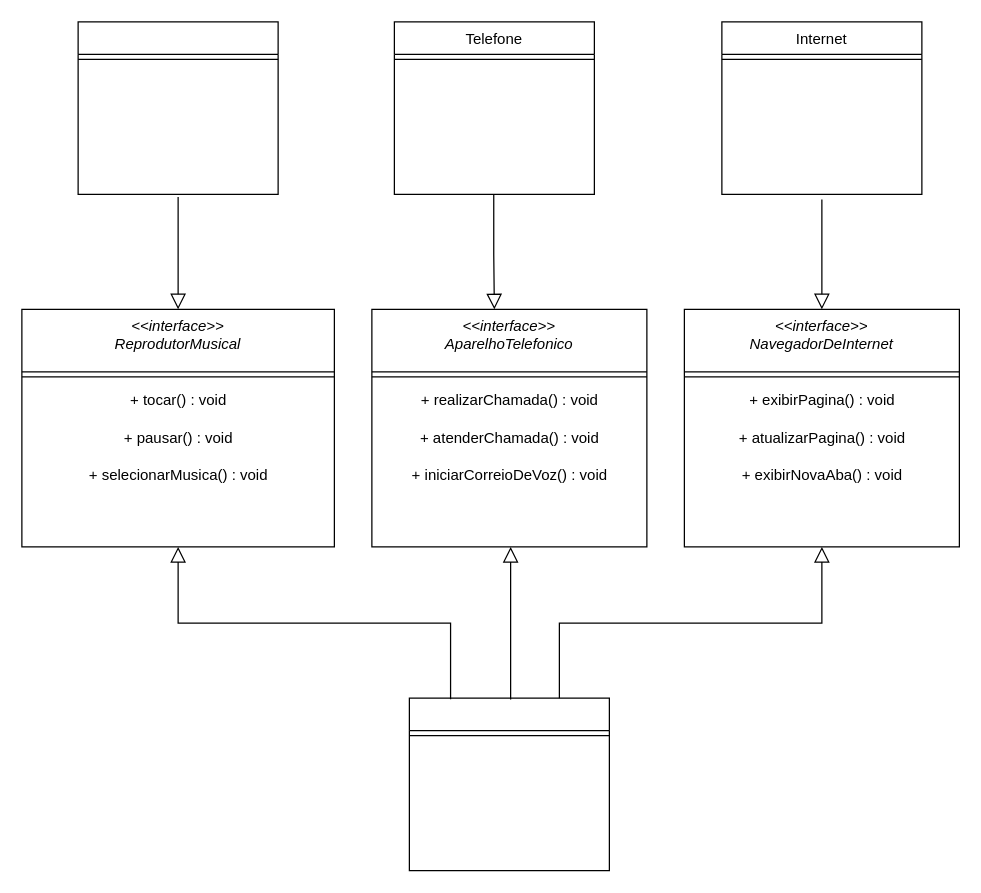
Some shapes in this 981 by 893 pixel diagram are drawn without their labels. The shapes that lost their labels are listed below. From the top down, each one's box as (x1, y1, x2, y2) in pixels, then its label:
(77, 21, 278, 194): iPod
(408, 697, 609, 871): iPhone
